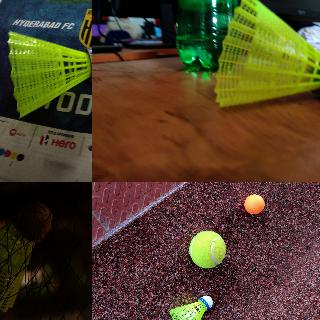shuttlecock: (213, 0, 319, 108), (8, 31, 91, 120), (0, 202, 52, 312), (169, 296, 212, 319)
